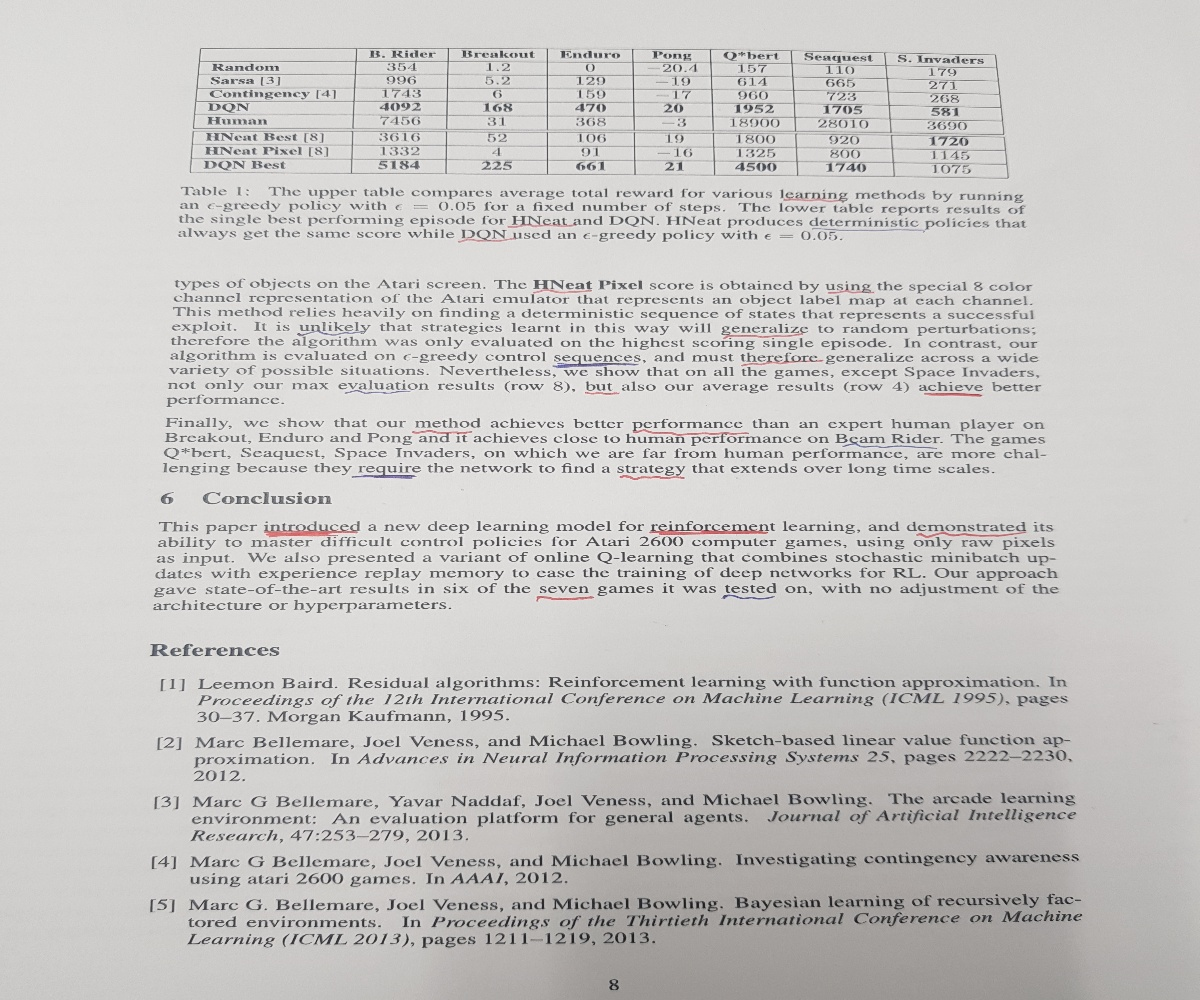underline: (840, 440, 943, 454), (808, 223, 926, 234), (913, 530, 1029, 541), (631, 427, 754, 437), (262, 527, 359, 539), (645, 528, 773, 536), (350, 471, 422, 484), (295, 328, 366, 339), (619, 472, 689, 483), (720, 331, 803, 340), (340, 387, 413, 397), (919, 389, 985, 400), (409, 426, 475, 437), (530, 593, 594, 604), (738, 358, 823, 366), (531, 285, 596, 295), (552, 361, 639, 368), (779, 196, 853, 204), (719, 592, 775, 602), (456, 236, 515, 245), (506, 221, 576, 228), (584, 388, 622, 397), (825, 288, 874, 294)
